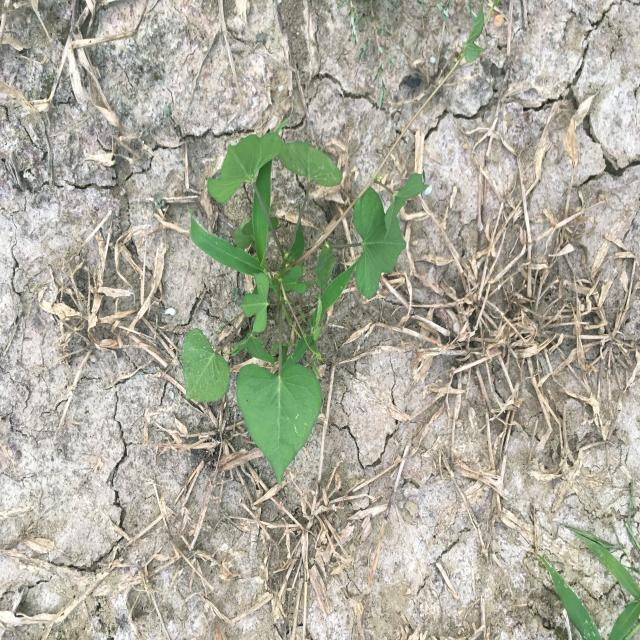MorningGlory: (180, 1, 502, 488)
